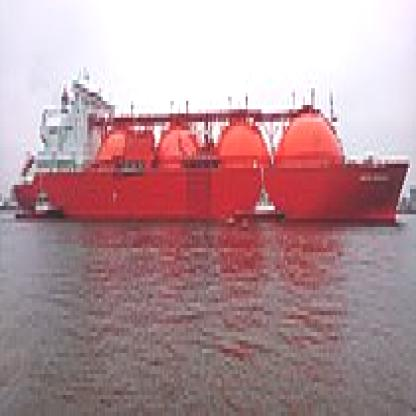Tanker: (24, 71, 406, 227)
